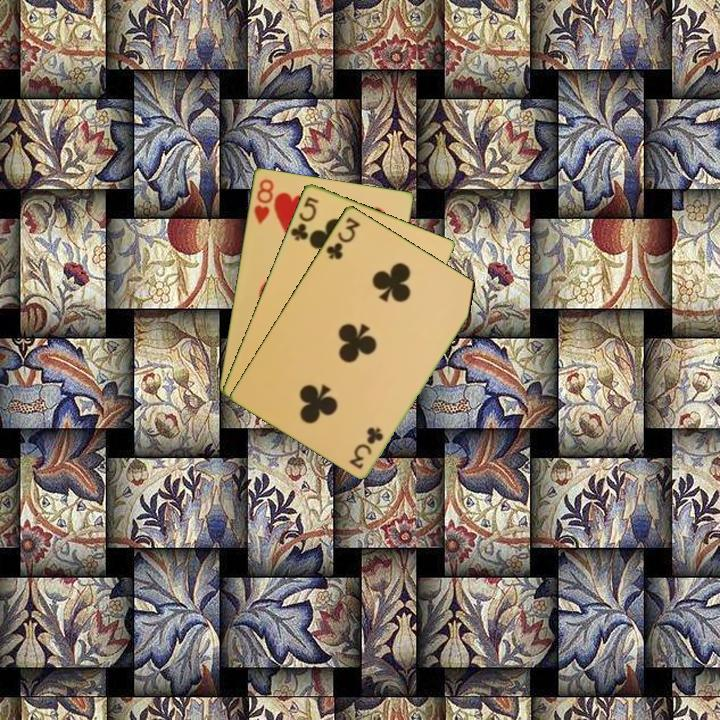3c: (322, 213, 363, 262), (347, 423, 386, 472)
5c: (287, 193, 321, 244)
8h: (250, 175, 276, 227)
